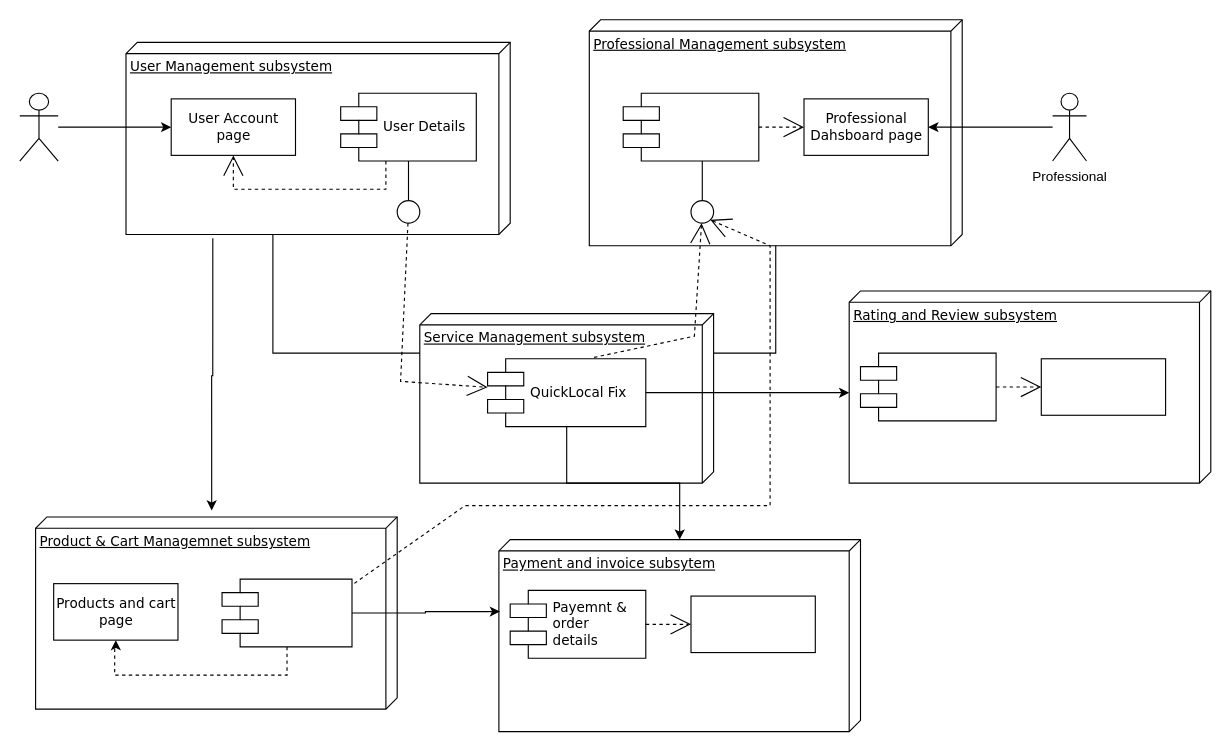
This 1231x751 diagram has some shape labels left out. Each missing label, with the centre of its shape:
"Cart details" belongs at [286,612].
"Payemnt and Invoice page" belongs at [752,624].
"Profesisional Details" belongs at [690,126].
"Rating and reviews in booking page" belongs at [1103,386].
"Review Details" belongs at [927,386].
"User" belongs at [38,126].
